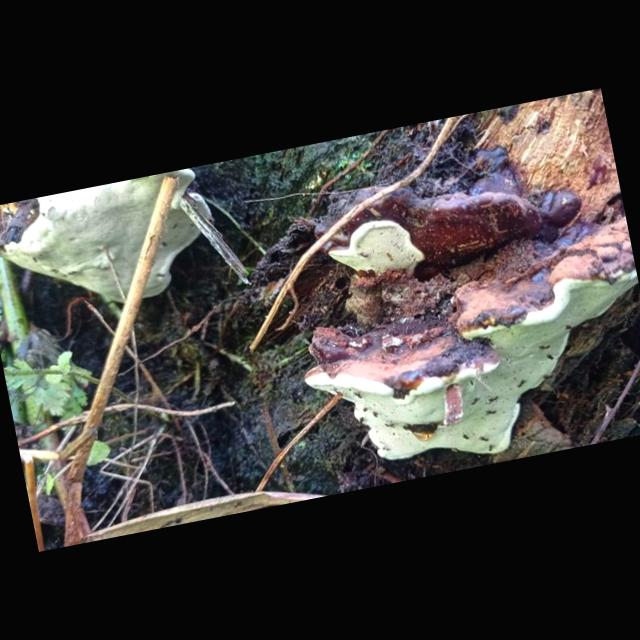ganoderma: (286, 219, 640, 489), (305, 132, 591, 295)
